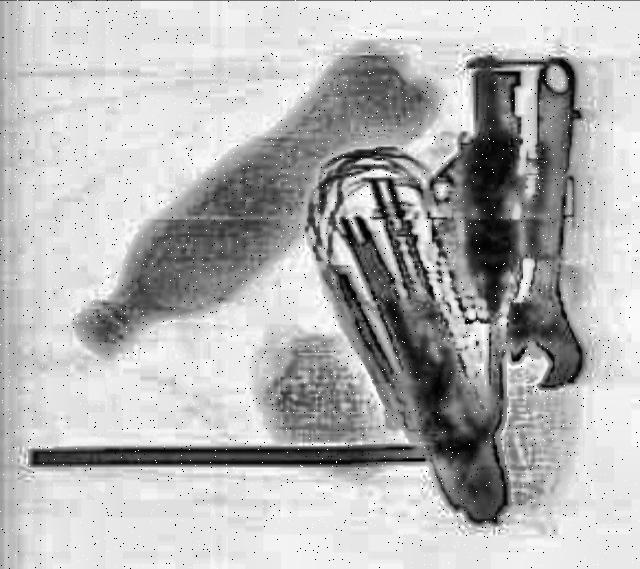Wrench: (498, 57, 596, 391)
